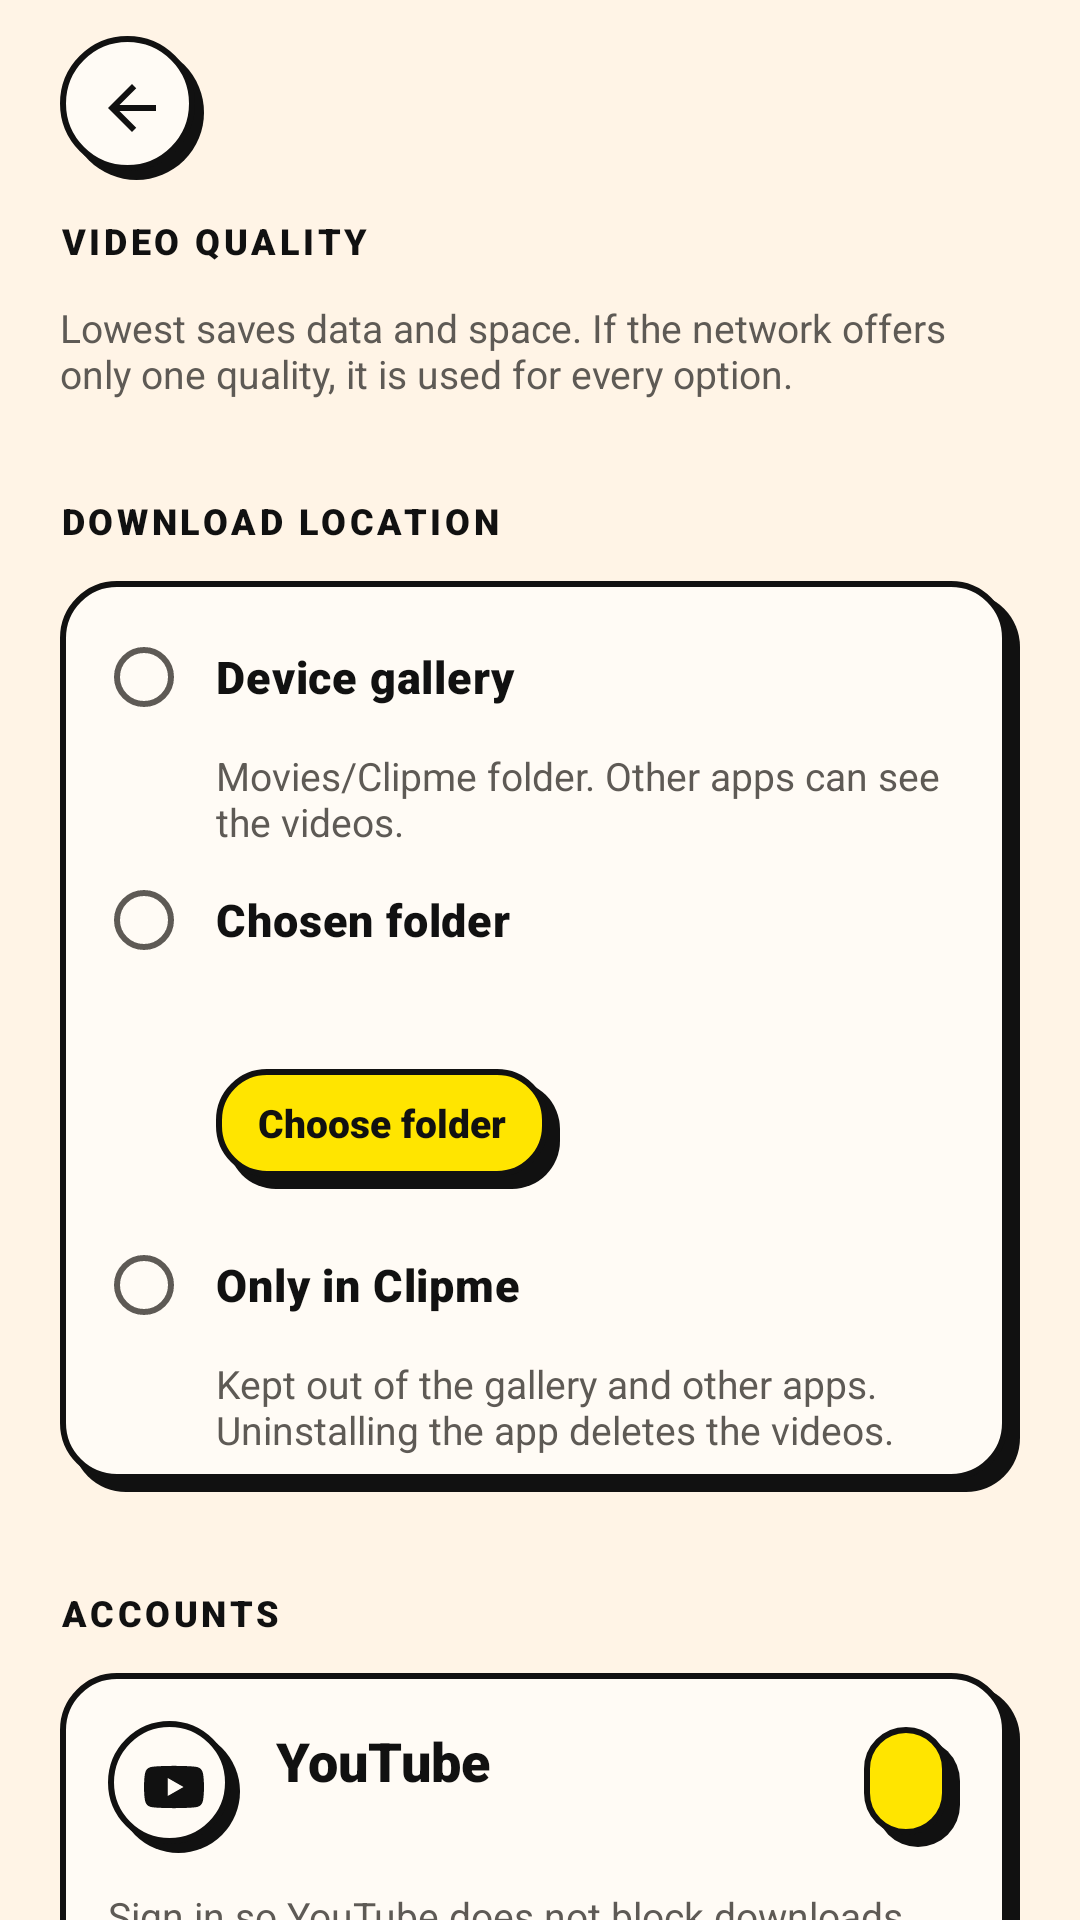

Where to tap for icons on this 1080 x 1920 app screen, as (x=x, y=y):
Back: (x=132, y=108)
